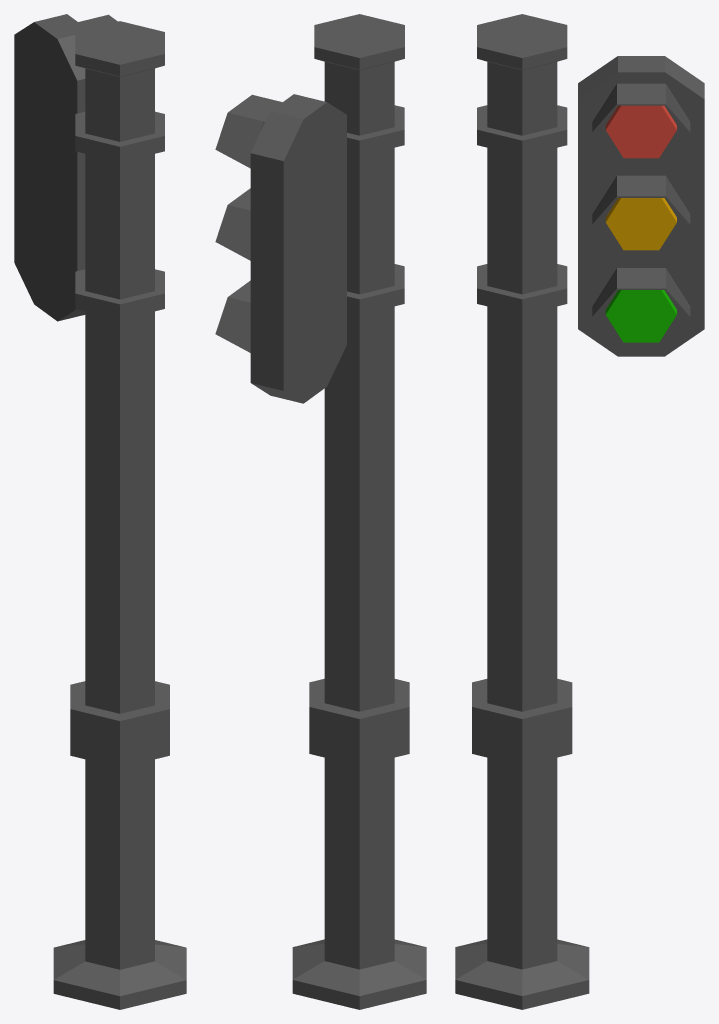
The model's file is semaforo.fbx.
3 renders of one model, left to right at view 1: azimuth 30°, elevation 25°; view 2: azimuth 150°, elevation 25°; view 3: azimuth 270°, elevation 25°, orthographic.
Visible parts, largest first — view 1: Cylinder.019; view 2: Cylinder.019; view 3: Cylinder.019.
Boxes of the visible parts, <box> form: Cylinder.019: <box>14,14,186,1009</box>; Cylinder.019: <box>215,14,426,1009</box>; Cylinder.019: <box>455,14,704,1009</box>.
Size of the model in its own units: 14.66 by 98.42 by 23.64.
